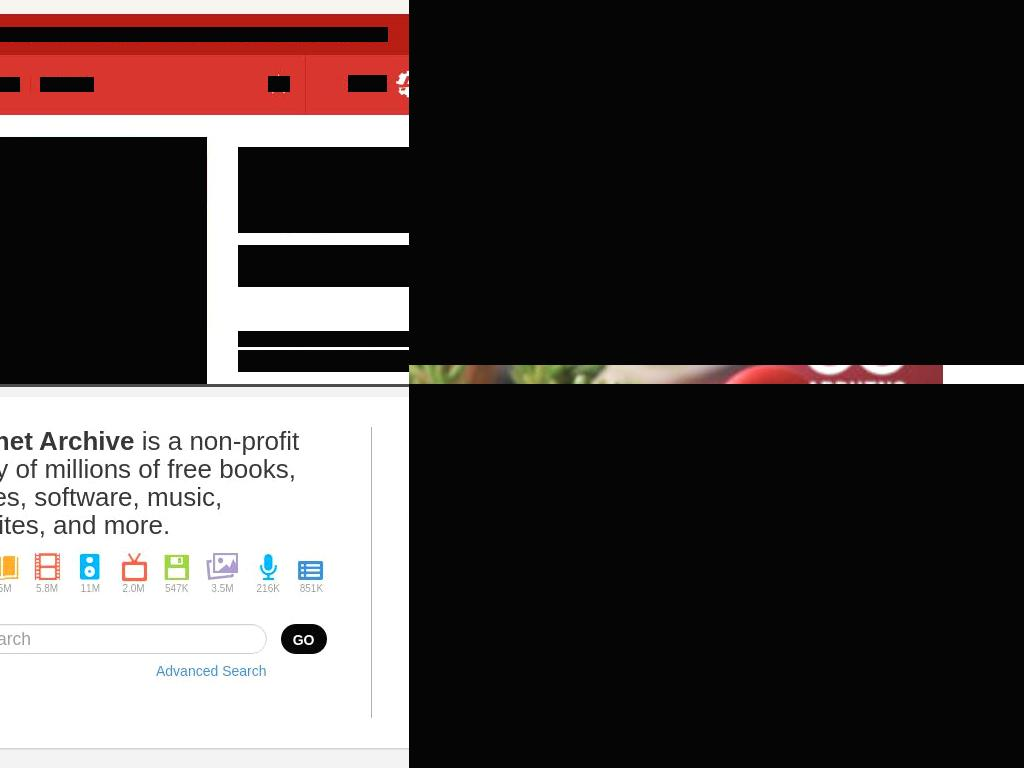button: (0, 137, 207, 384), (409, 35, 1024, 90), (409, 90, 1024, 145), (409, 145, 1024, 200), (409, 200, 1024, 255), (409, 255, 1024, 310), (409, 310, 1024, 365), (409, 0, 1024, 35), (409, 0, 1024, 32), (453, 238, 693, 287), (703, 238, 943, 287), (513, 614, 665, 669), (155, 661, 267, 681), (280, 624, 327, 654), (201, 548, 243, 578), (29, 548, 66, 578), (72, 548, 109, 578), (115, 548, 152, 578), (158, 548, 195, 578), (250, 548, 287, 578), (293, 548, 330, 578), (0, 548, 22, 578)
field: (0, 624, 267, 654)
heading: (409, 384, 1024, 488), (238, 147, 409, 233), (537, 129, 789, 161)
image: (409, 384, 1024, 712), (0, 137, 207, 384), (409, 92, 508, 199), (650, 250, 673, 274), (900, 250, 923, 274), (409, 248, 423, 272)
link: (0, 27, 385, 42), (238, 331, 409, 347), (268, 76, 290, 92), (0, 77, 20, 92)
text: (0, 427, 300, 718), (409, 489, 913, 552), (238, 245, 409, 287), (0, 426, 135, 456), (238, 350, 409, 372), (538, 629, 640, 653), (723, 251, 808, 274), (473, 251, 539, 274), (524, 109, 622, 124), (204, 552, 240, 583), (32, 552, 63, 583), (75, 552, 106, 583), (118, 552, 149, 583), (161, 552, 192, 583), (253, 552, 284, 583), (296, 552, 327, 583), (40, 77, 94, 92), (348, 75, 387, 92), (0, 552, 19, 583), (556, 164, 590, 179), (299, 583, 324, 594), (35, 583, 59, 594), (165, 583, 189, 594), (256, 583, 280, 594), (122, 583, 145, 594), (211, 583, 234, 594), (80, 583, 100, 594), (0, 583, 12, 594), (384, 27, 388, 42)
